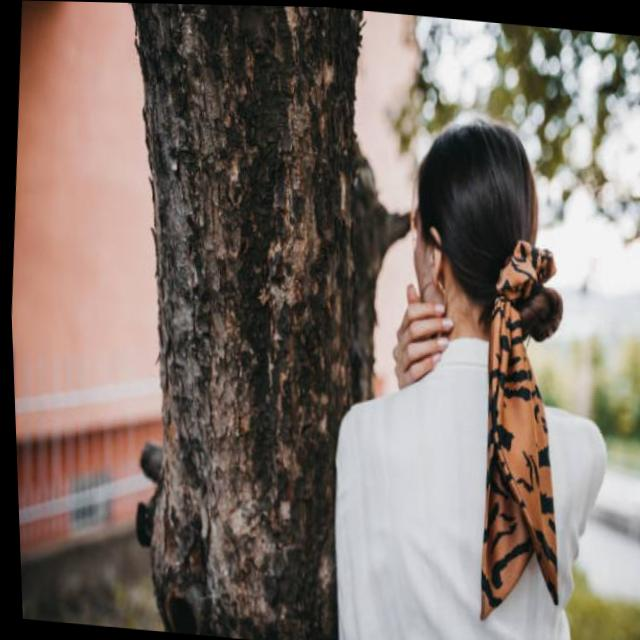no helmet: (380, 99, 577, 406)
